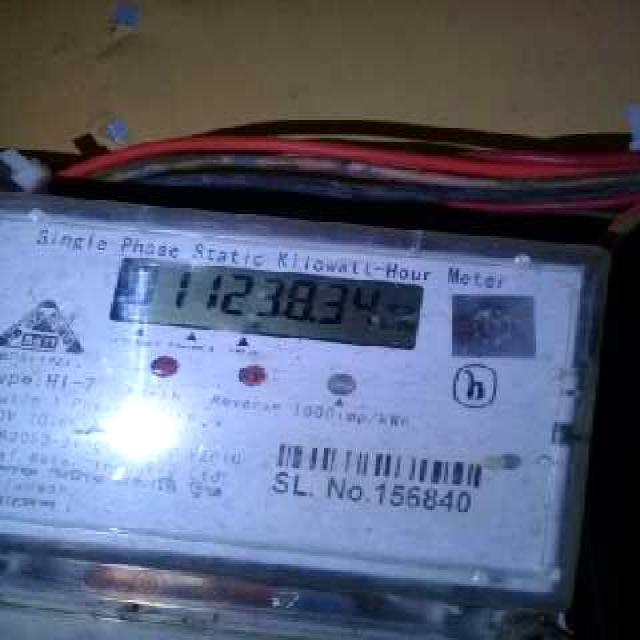LCD: (100, 245, 437, 364)
